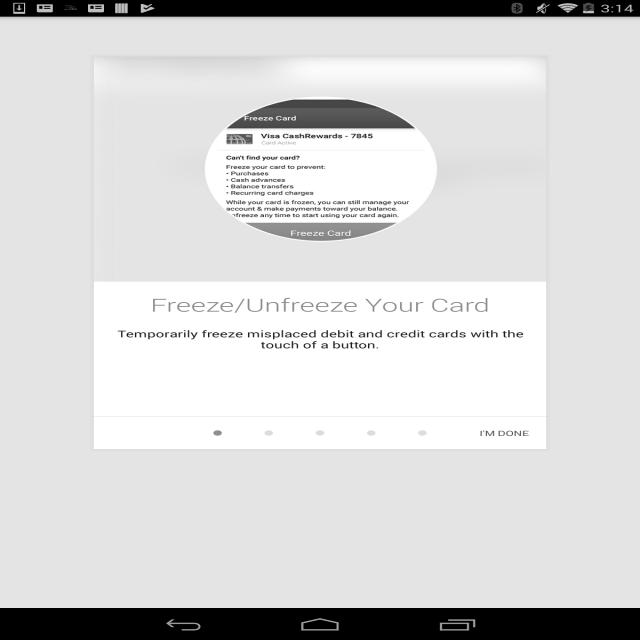ImageView: (94, 56, 546, 282), (546, 56, 640, 282), (256, 425, 282, 441), (307, 425, 333, 441), (358, 425, 384, 441), (205, 425, 230, 441), (410, 425, 435, 441)
TextView: (94, 282, 546, 327), (94, 327, 546, 362), (546, 282, 640, 348), (546, 348, 640, 383), (463, 417, 546, 449)
